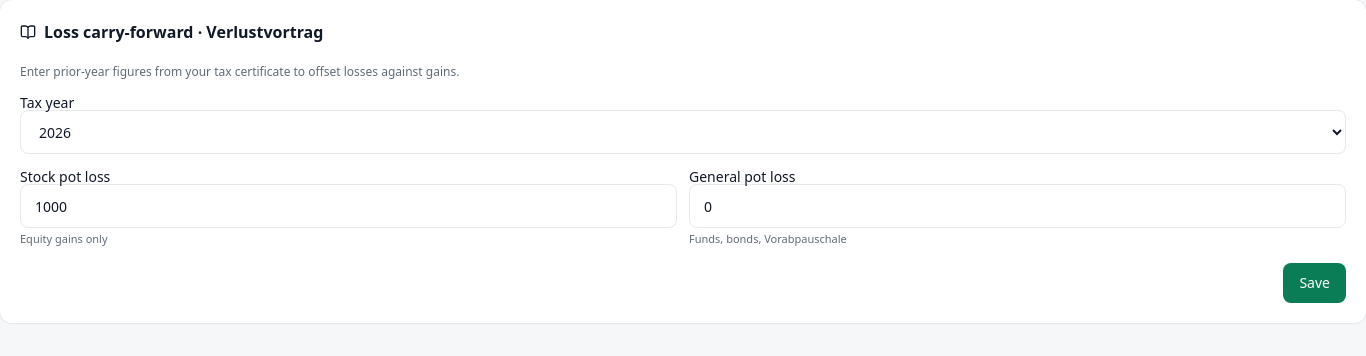
Test: LossCarryforwardEditor › drops the minus-sign hint when the amounts are cleared for another year
This screenshot has width=1366, height=356.
Check: the button "Save" is enabled, box [1283,263,1346,303]
Replace the text in the field labelled "Stock pot loss" with "-500" at (348, 206), box [20,184,677,228]
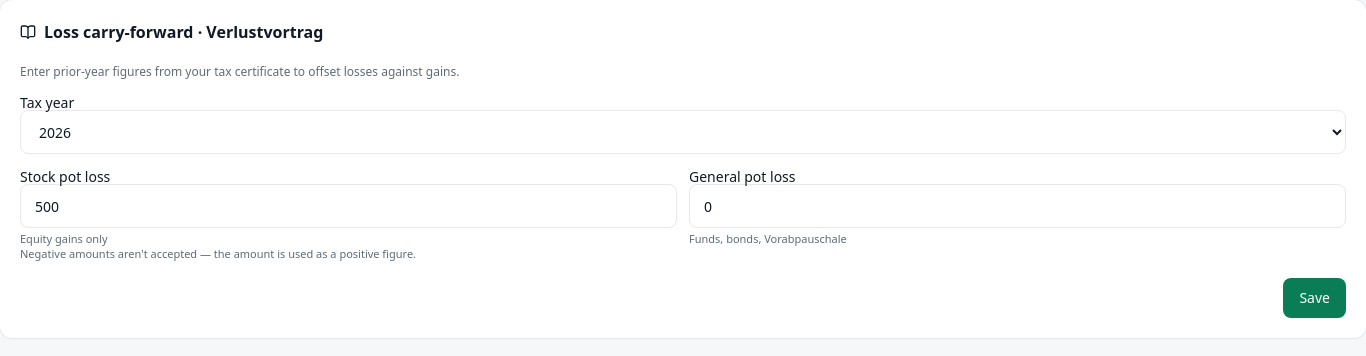
Check: the text "Negative amounts aren't accepted — the amount is used as a positive figure." is shown, box [20,246,416,261]
Select "2025" in the dropdown at (683, 132), box [20,110,1346,154]
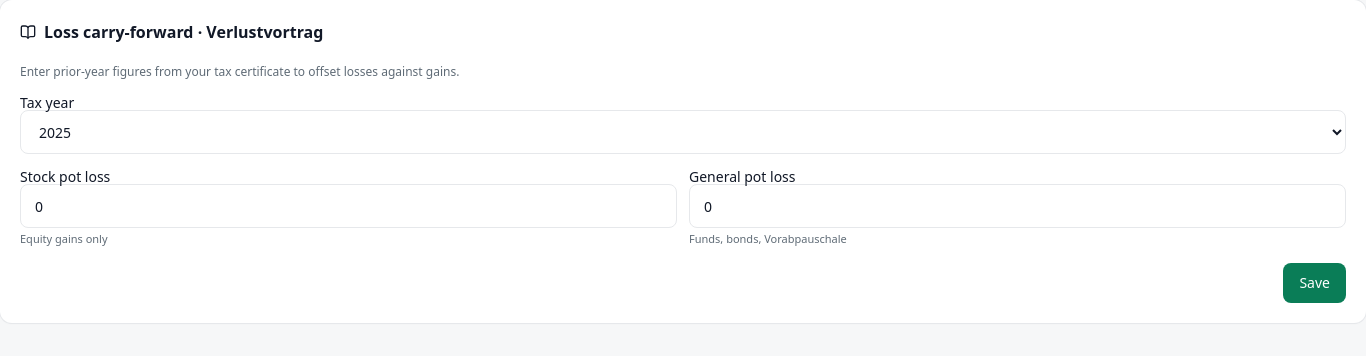
Check: the text "Negative amounts aren't accepted — the amount is used as a positive figure." is gone
